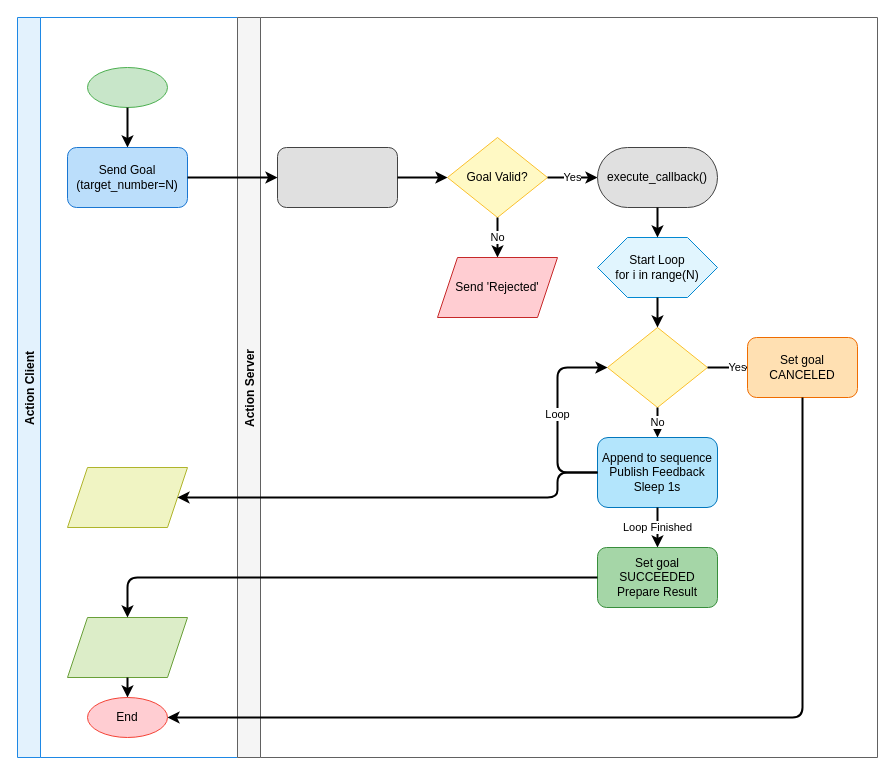
Image size: 895x775. Some labels were removed from this diagram. Each missing label, with the centre of its shape:
"Cancel Requested?" belongs at point 657,367.
"goal_callback()" belongs at point 337,177.
"Receive Feedback" belongs at point 127,497.
"Receive Result" belongs at point 127,647.
"Start" belongs at point 127,87.
